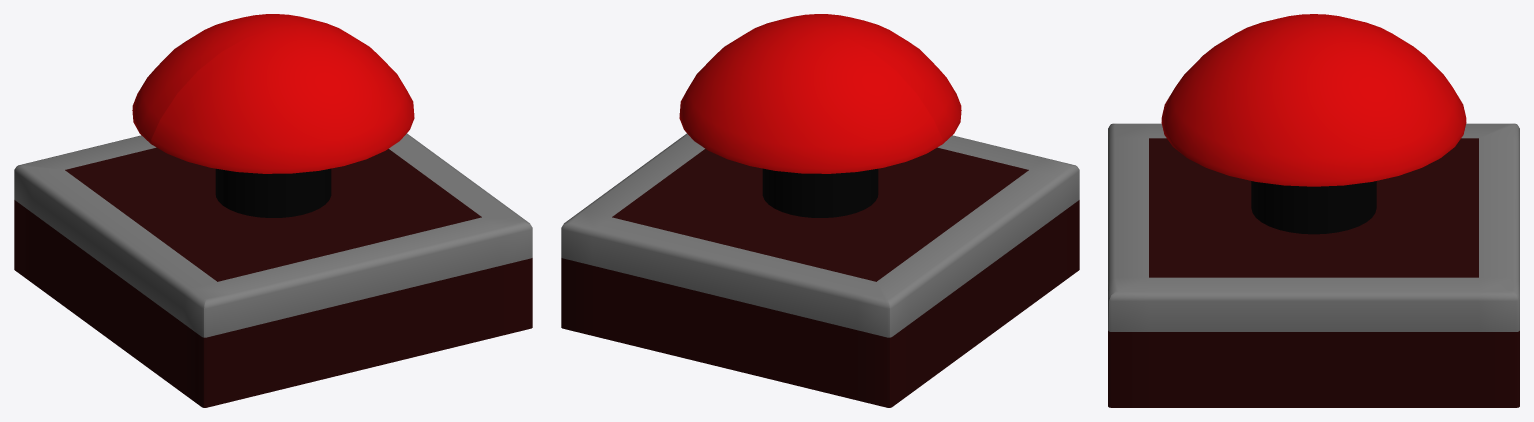
The model's file is button.fbx.
3 views of the same model, side by side, from view 1: azimuth 30°, elevation 25°; view 2: azimuth 150°, elevation 25°; view 3: azimuth 270°, elevation 25° (orthographic). The views are drawn at different scales.
Parts seen in each view (by area): view 1: Button; view 2: Button; view 3: Button.
Part boxes in pixels (x1,y1,x2,y2): Button: (14, 14, 532, 407); Button: (561, 14, 1079, 407); Button: (1108, 14, 1519, 407).
Size of what is drawn, in the model's own units: 2 by 1.56 by 2.
